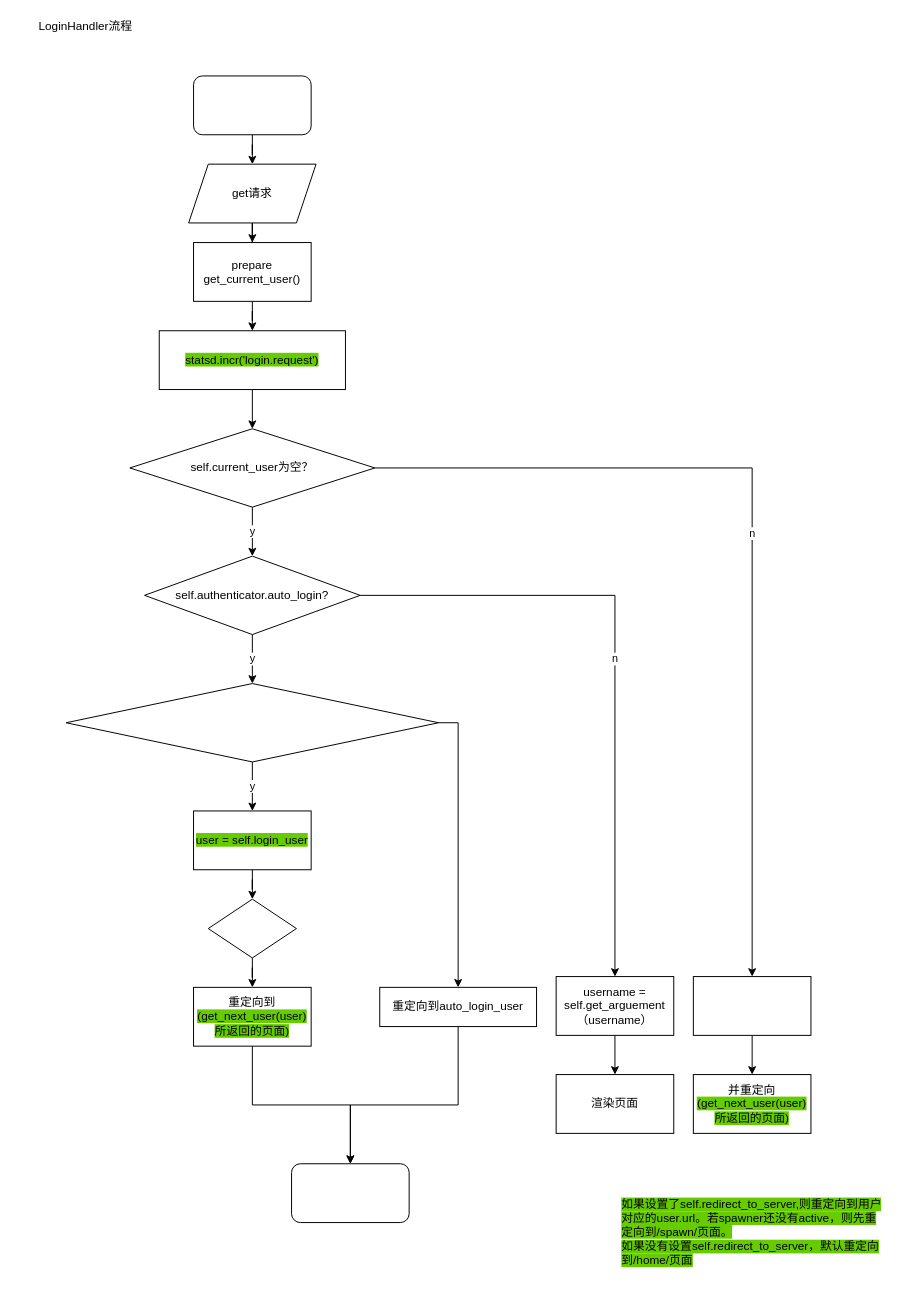
This 901x1307 diagram has some shape labels left out. The shapes that lost their labels are listed below. From the top down, each one's centre as x and y in pixels, then its label:
point 252,105: 开始
point 252,722: auto_login_url==self.settings,login_url(self.hub.base_url)
point 251,928: user is none?
point 751,1005: 设置login_cookie
point 350,1193: return
